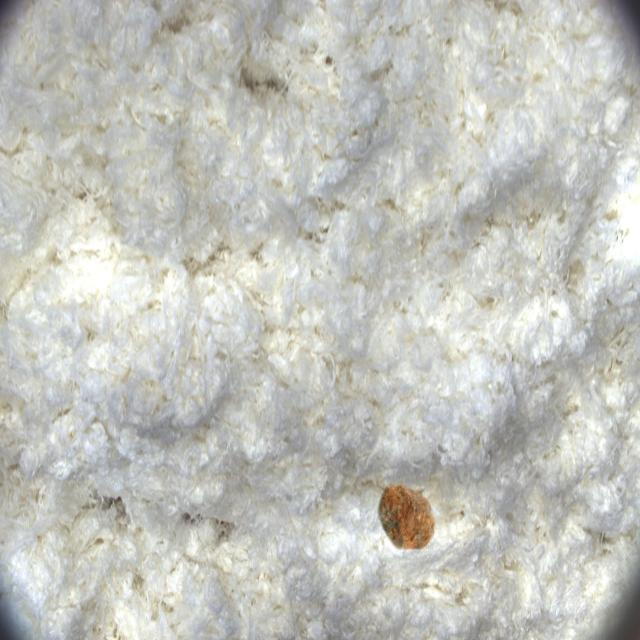dust: (354, 454, 469, 584)
